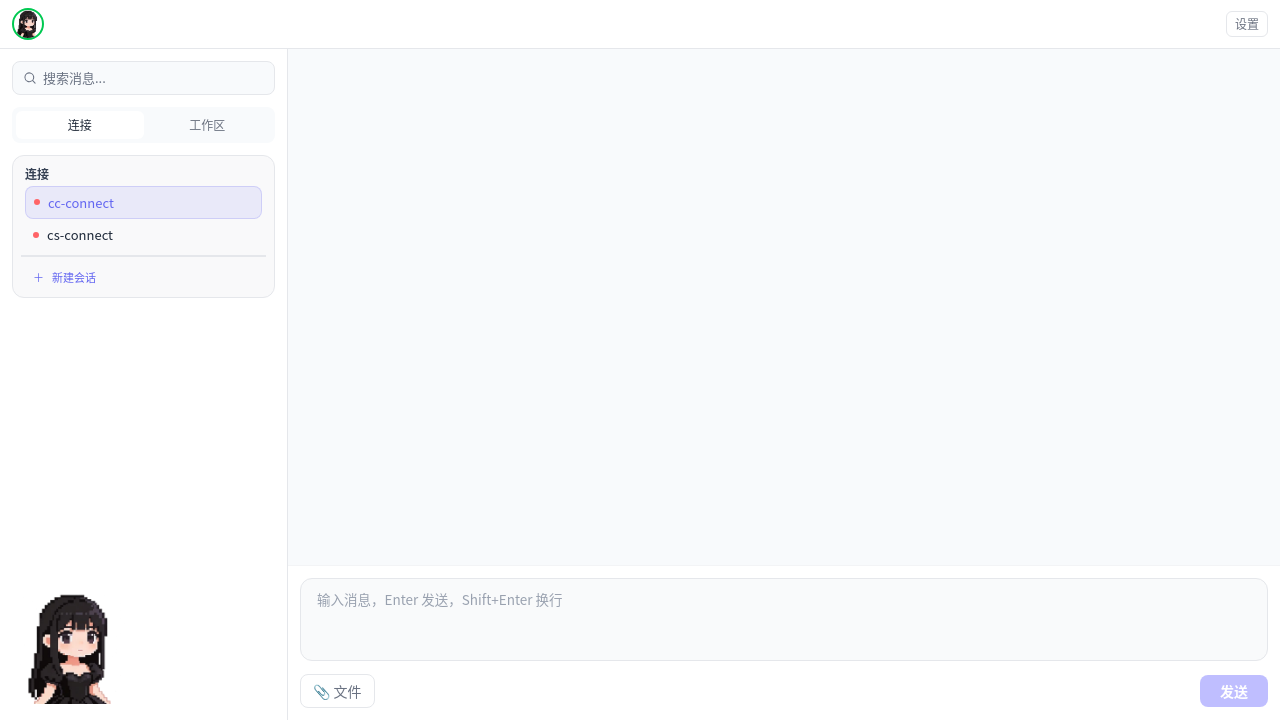
Test: App integration › refreshes workspace context when the active connection changes
Click the tab "工作区" at (207, 124), box [144,110,271,138]
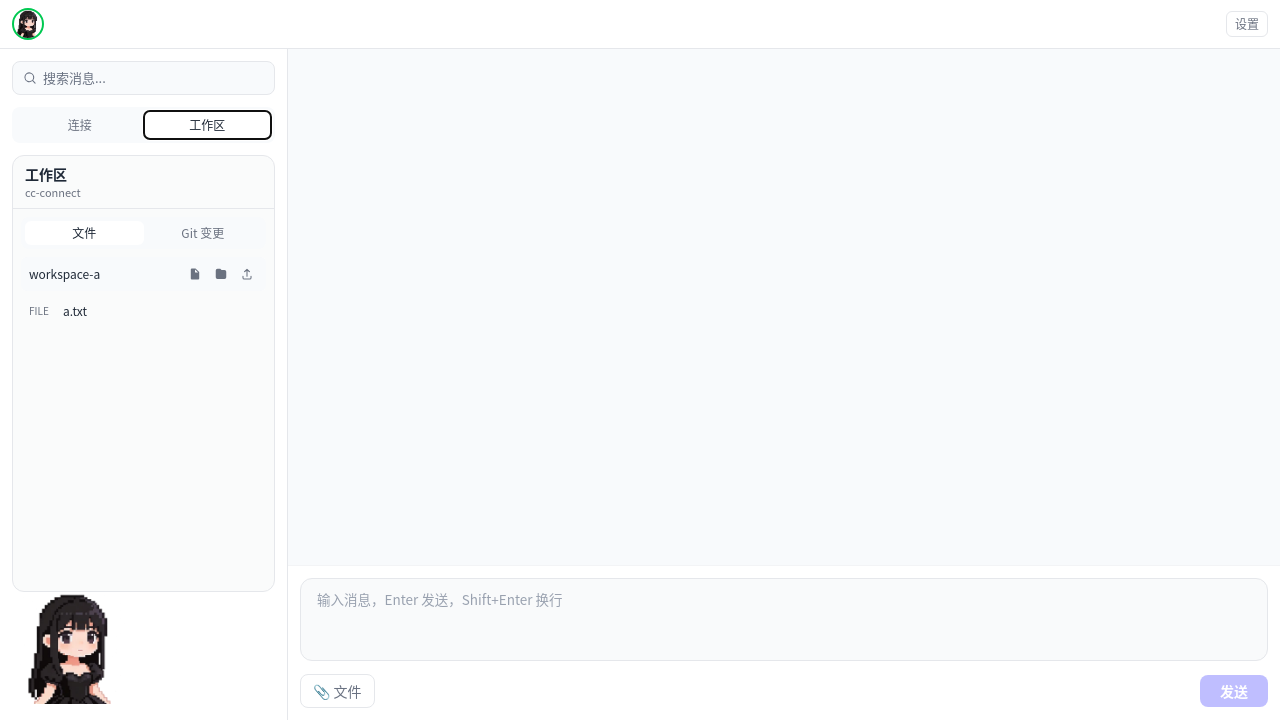
Result: the text "workspace-a" is shown at [29,265,100,282]
Result: the button "FILE a.txt" is shown at [21,299,266,323]
Click the tab "连接" at (80, 124), box [16,110,144,138]
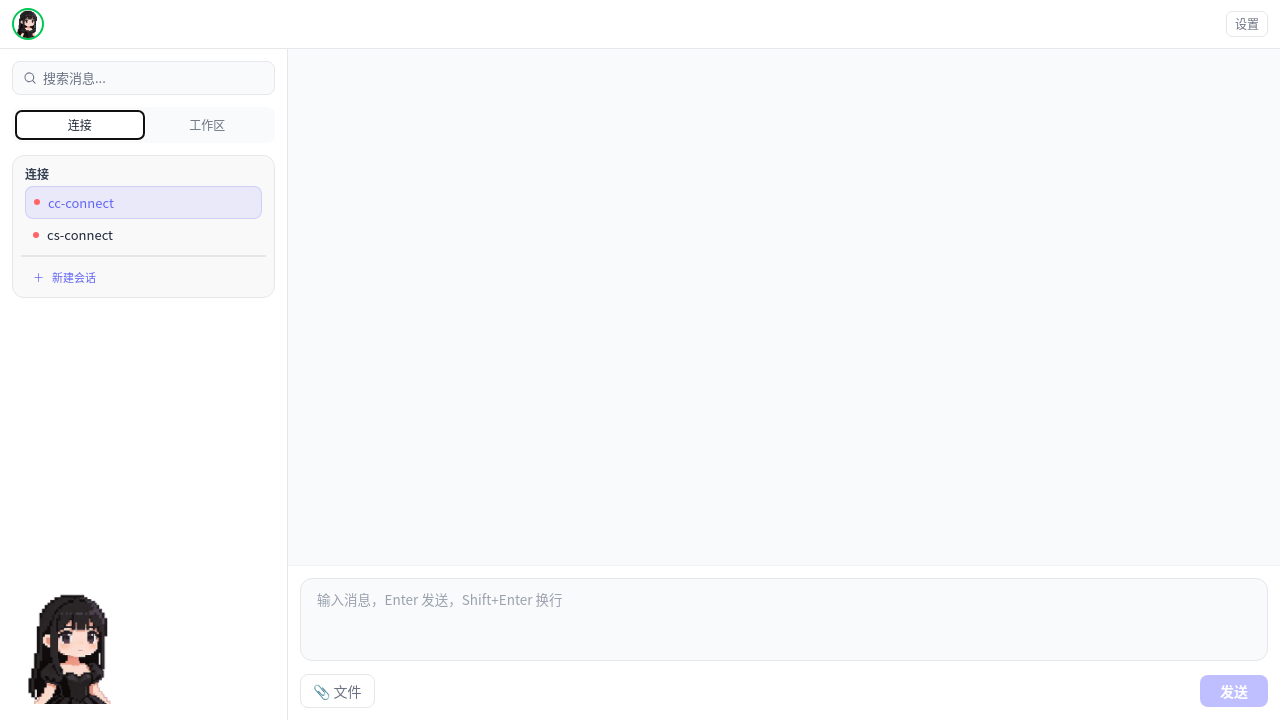
Click the button "cs-connect" at (144, 235), box [25,219,262,250]
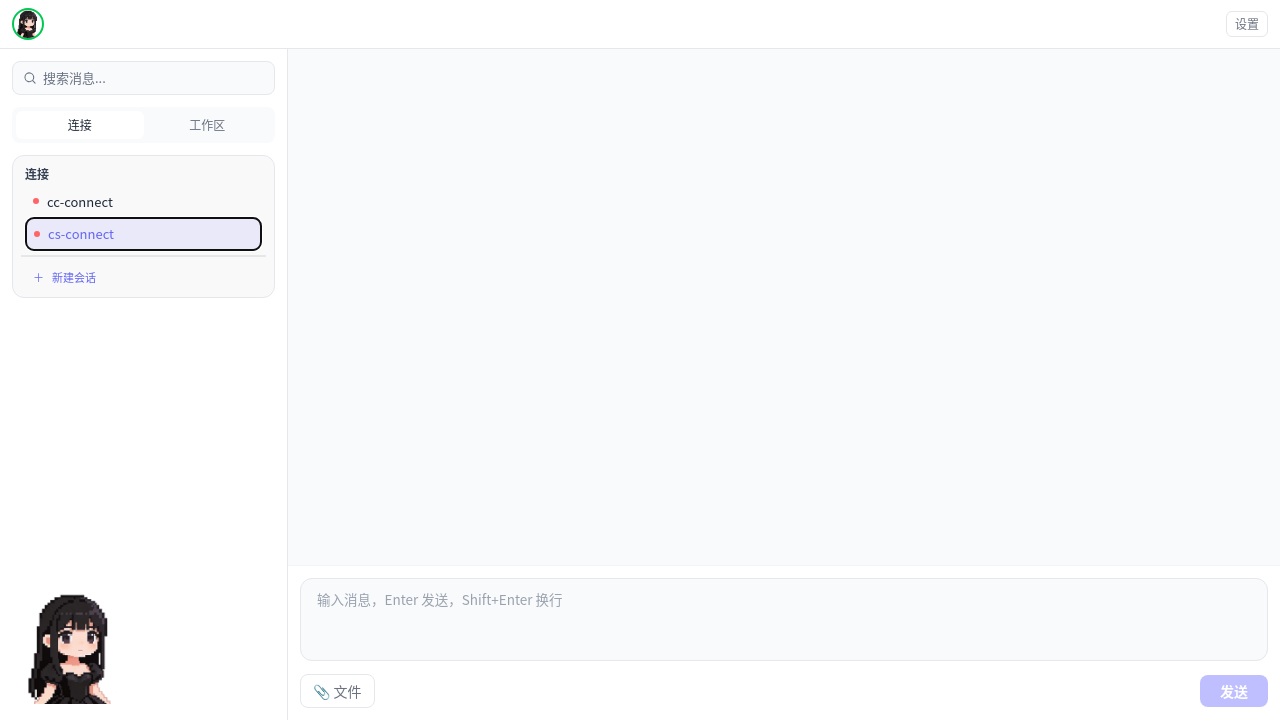
Click the tab "工作区" at (207, 124), box [144,110,271,138]
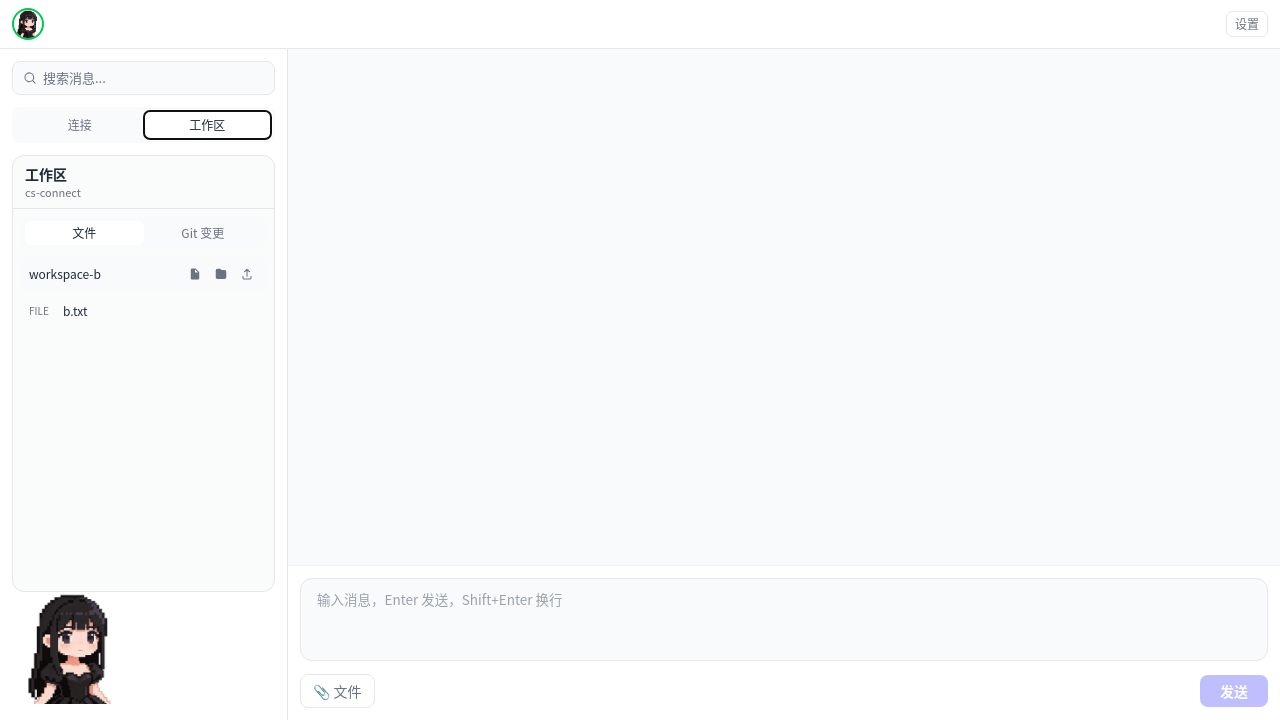
Expected: the button "a.txt" is not shown
Result: the text "workspace-b" is shown at [29,265,101,282]
Result: the button "FILE b.txt" is shown at [21,299,266,323]
